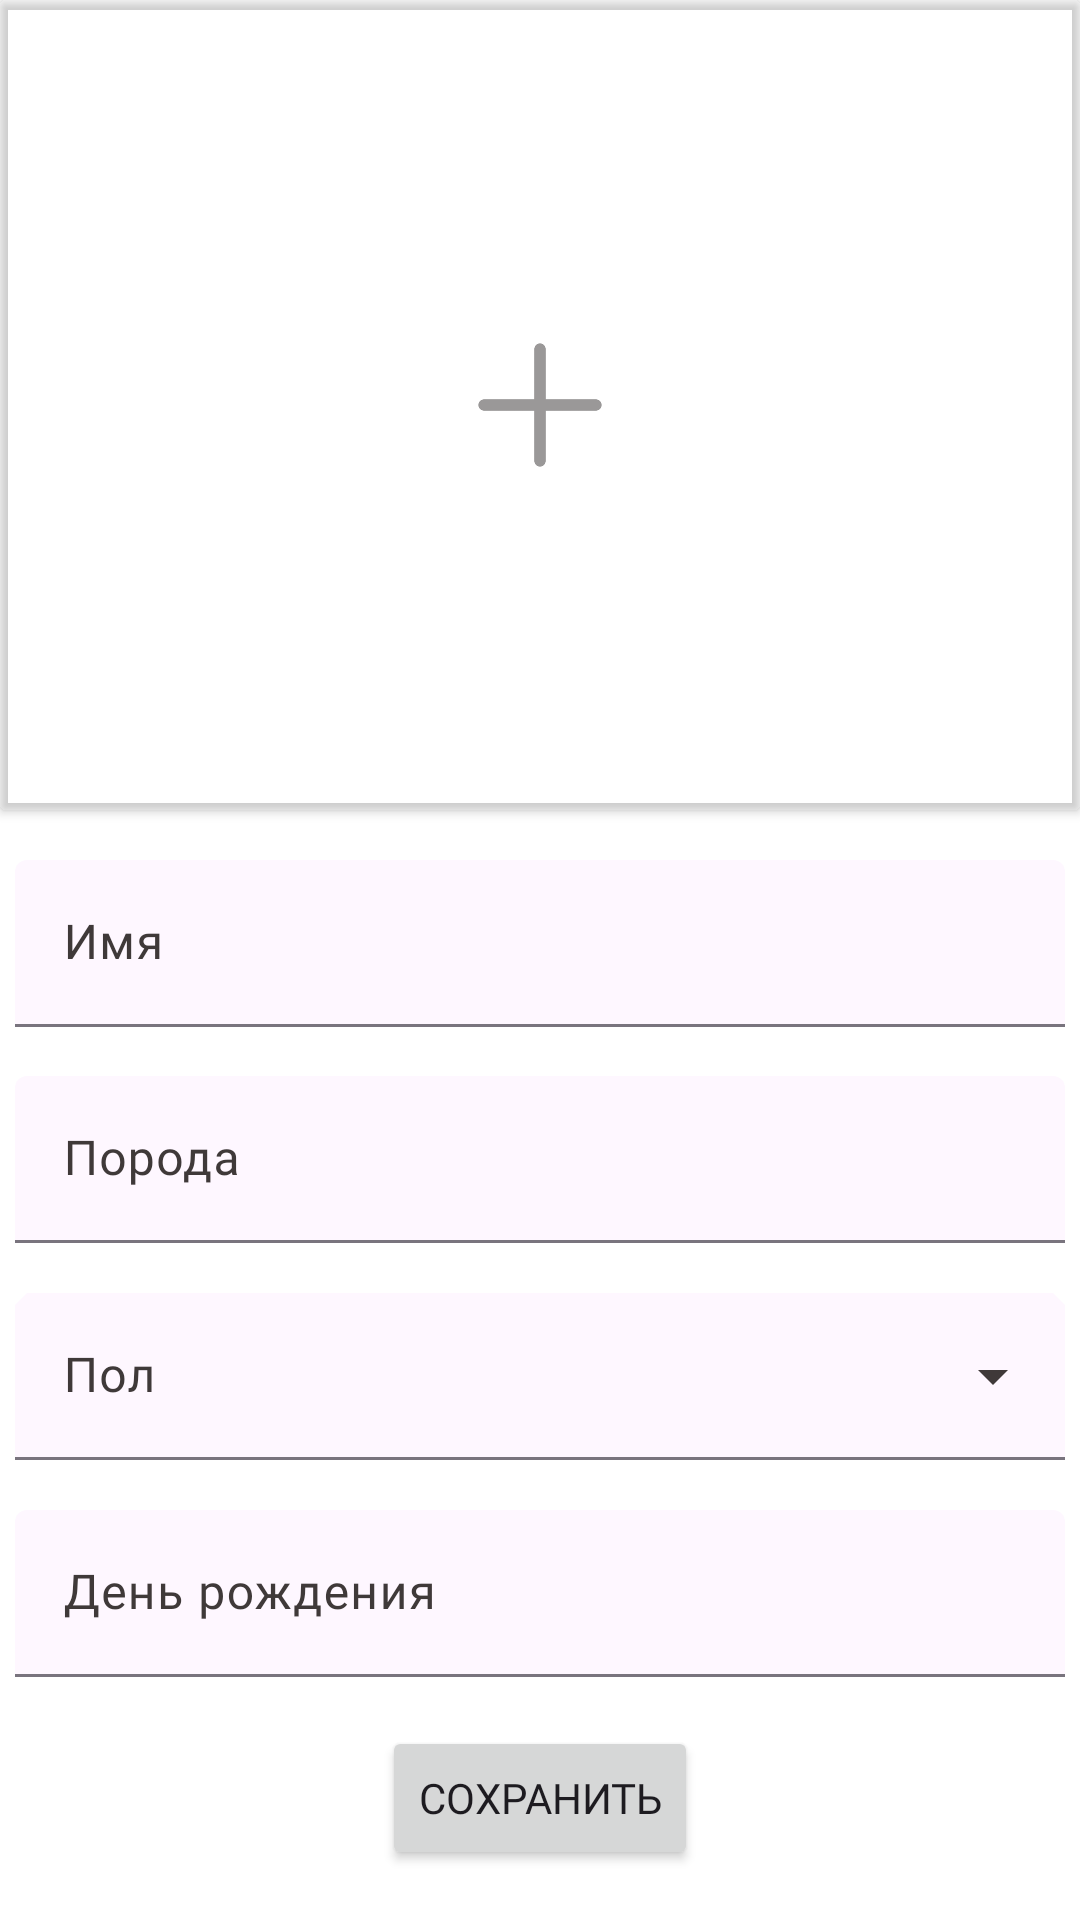

Where to tap for icons on this 1080x1920 app screen, as [x,y]:
plus: [540,405]
